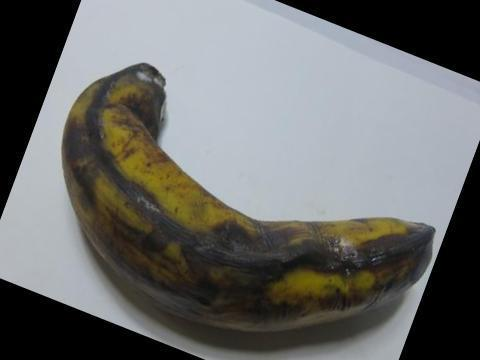overripe: (49, 55, 443, 347)
